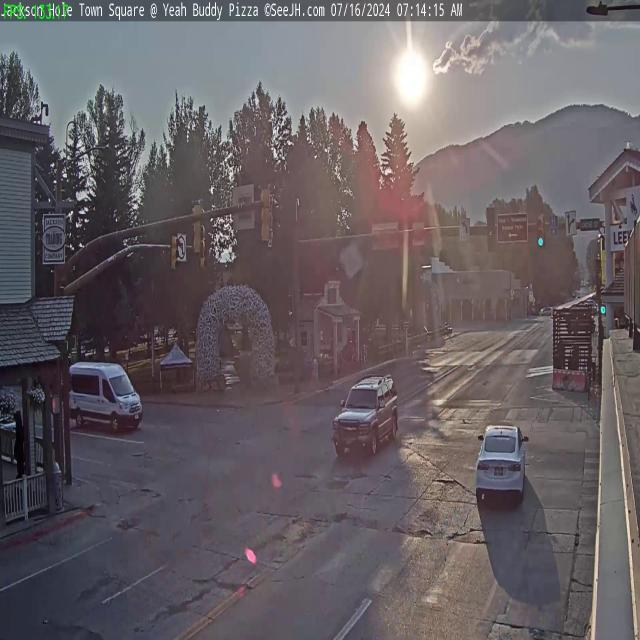sedan: (474, 422, 528, 507)
suv: (332, 374, 399, 460)
traffic light: (190, 200, 204, 256), (260, 184, 273, 244), (486, 207, 496, 250), (170, 233, 180, 270), (536, 214, 546, 248)
van: (64, 354, 142, 434)
